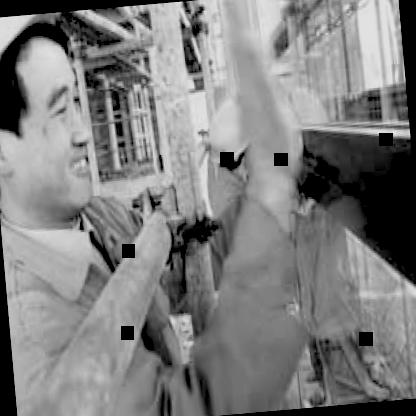helmet: (0, 9, 116, 235), (201, 94, 256, 184)
